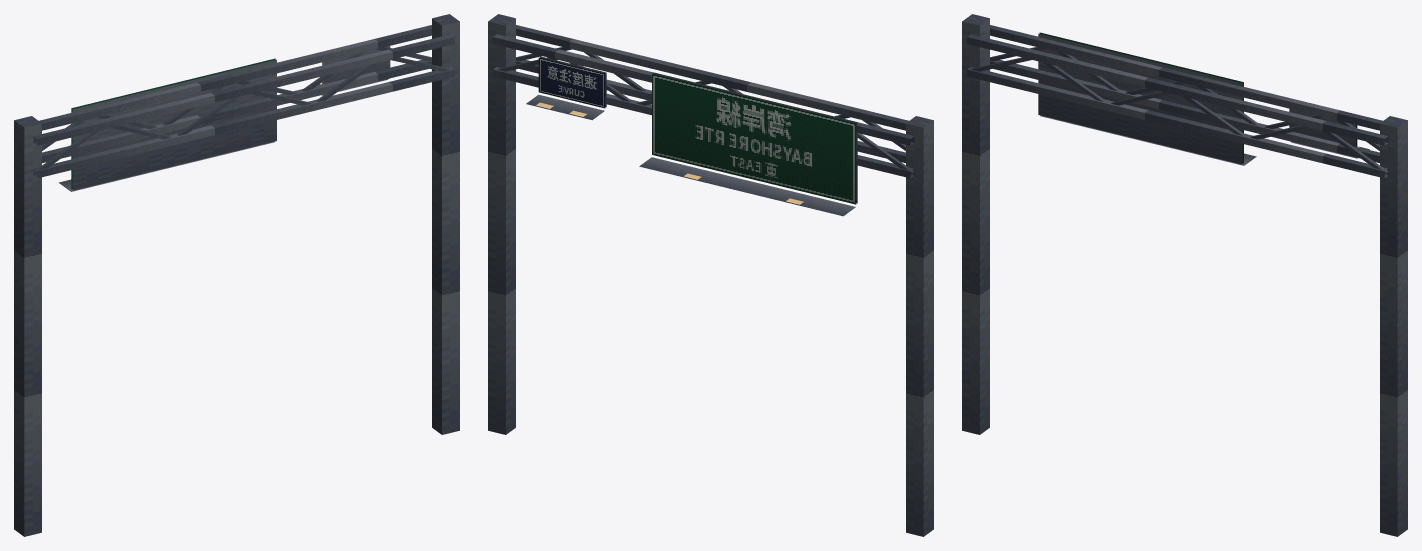
File: wangan_gantry_2l.glb
The picture shows the model from 3 angles, left to right: view 1: azimuth 30°, elevation 25°; view 2: azimuth 150°, elevation 25°; view 3: azimuth 330°, elevation 25°; orthographic projection.
Visible parts, largest first — view 1: wangan_gantry_2l; view 2: wangan_gantry_2l; view 3: wangan_gantry_2l.
Part boxes in pixels (x1,y1,x2,y2): wangan_gantry_2l: [14, 14, 459, 536]; wangan_gantry_2l: [488, 14, 933, 536]; wangan_gantry_2l: [962, 14, 1407, 536].
Bounding box in the file's own units: 9.8 × 8.8 × 1.25.
4 materials, 4 textured.
